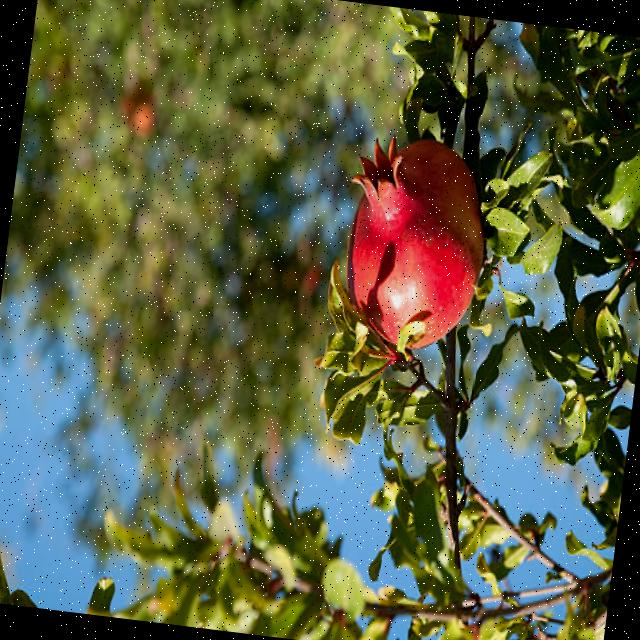Ripe: (322, 123, 500, 364)
